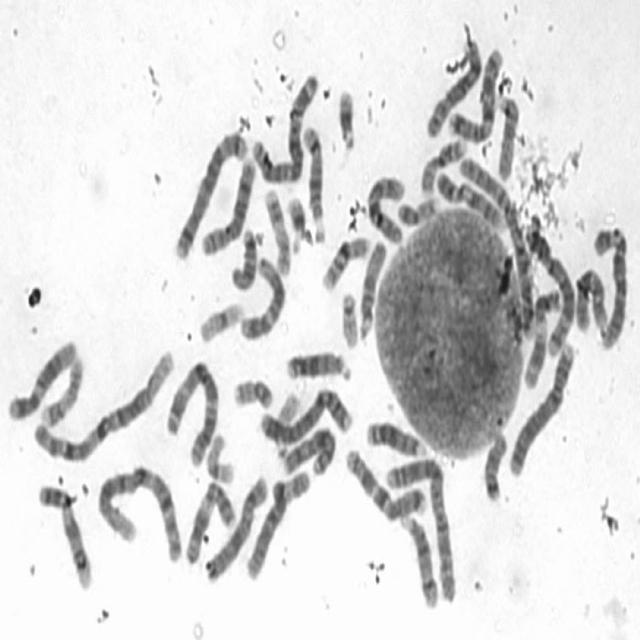A1: (30, 342, 178, 467), (93, 458, 184, 565)
A2: (456, 148, 536, 341), (384, 448, 459, 604)
A3: (248, 66, 321, 186), (163, 353, 220, 469)
B4: (505, 335, 577, 479), (258, 383, 355, 446)
B5: (171, 123, 249, 262), (520, 218, 576, 361)
C10: (363, 167, 408, 246), (573, 260, 611, 337)
C11: (182, 476, 238, 566), (521, 283, 563, 389)
C12: (2, 334, 78, 424), (236, 248, 289, 342)
C6: (244, 458, 314, 582), (588, 215, 632, 350)
C7: (341, 441, 427, 523), (445, 39, 506, 143)
C8: (422, 33, 484, 142), (198, 150, 258, 257)
C9: (34, 478, 94, 592), (431, 165, 506, 233)
D13: (364, 413, 431, 459), (282, 343, 354, 384)
D14: (396, 503, 440, 610), (298, 119, 328, 247)
D15: (356, 233, 388, 341), (494, 90, 522, 181)
E16: (318, 230, 371, 292), (419, 133, 468, 197)
E17: (37, 350, 84, 428), (261, 182, 292, 278)
E18: (480, 422, 509, 504), (228, 223, 260, 292)
F19: (196, 295, 246, 345), (203, 428, 236, 486)
F20: (230, 370, 276, 412), (394, 190, 442, 228)
G21: (334, 78, 358, 154), (284, 191, 307, 255)
G22: (270, 386, 302, 456), (338, 284, 361, 350)
X: (203, 470, 271, 587), (277, 421, 338, 479)
